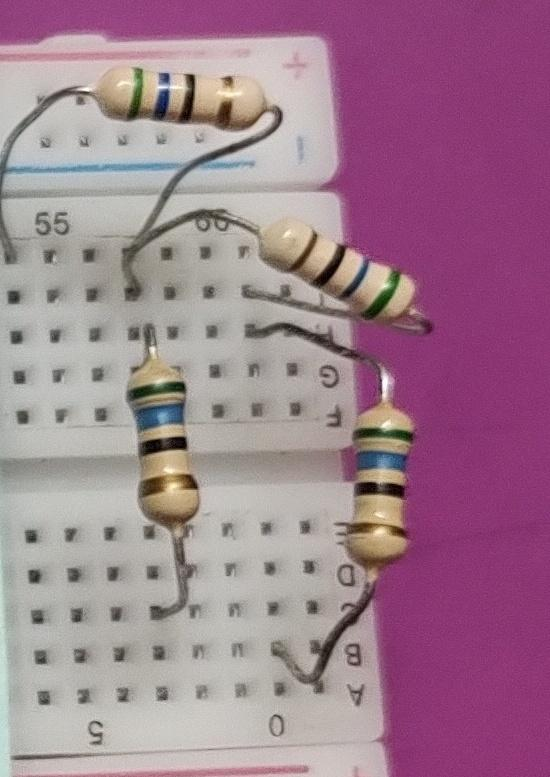resistor: (115, 339, 224, 545), (254, 204, 428, 332), (85, 47, 282, 148), (342, 375, 428, 583)
